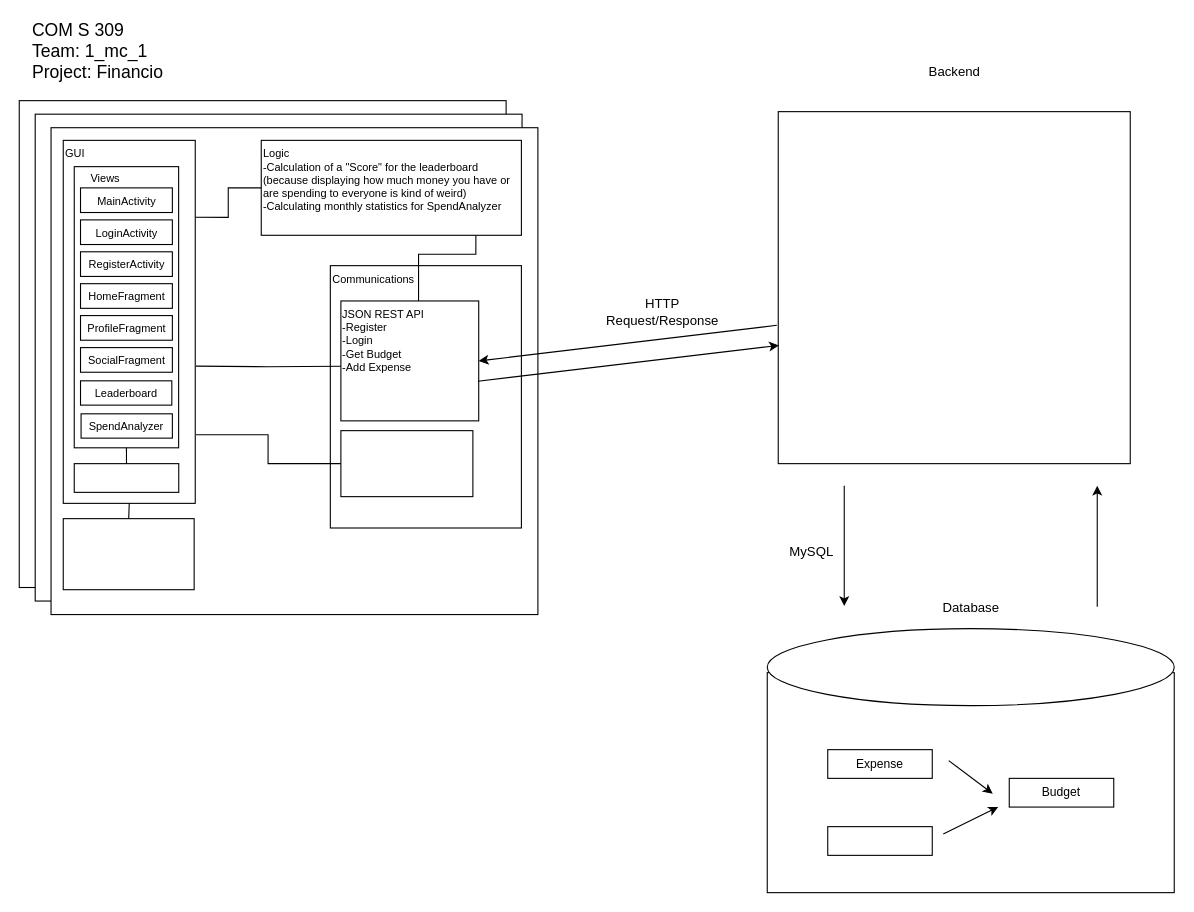
The diagram is 1194 pixels wide and 912 high, and some of its shapes have lost their labels. Here are the shapes that lost their labels. From the top down, the centre of each, then its label:
(953,287): JSON REST API -User -Expenses -Budget
(126,477): XML Layout Files
(406,463): Web Socket
(128,554): Helpers -SocialViewModel -ProfileViewModel -HomeViewModel
(879,840): User
